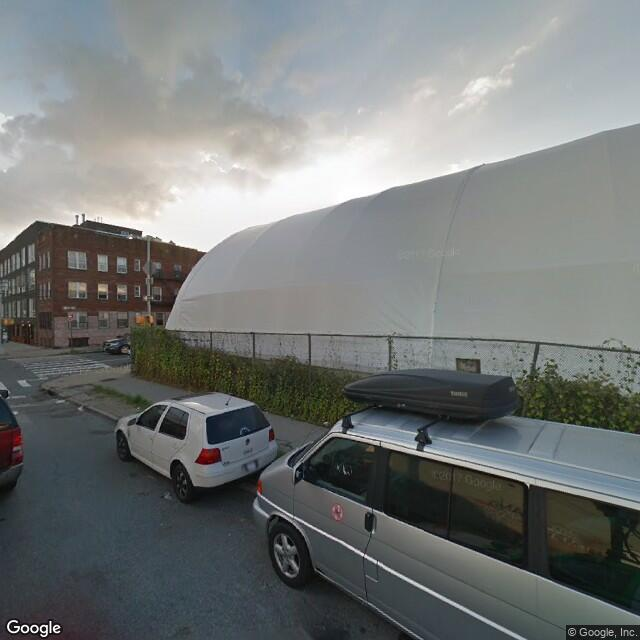litter: (155, 487, 174, 505), (49, 390, 68, 407), (72, 400, 95, 413)
